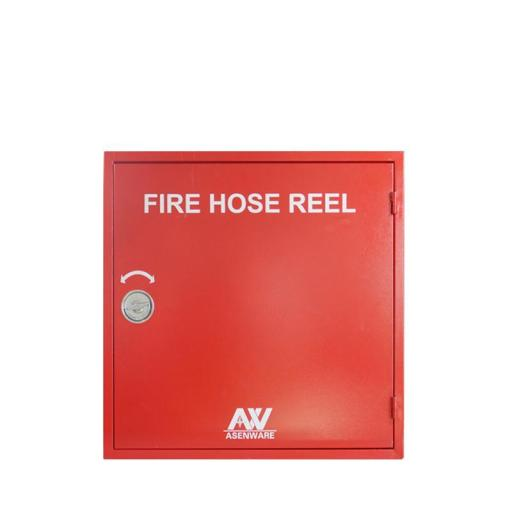fire_hose: (95, 146, 405, 461)
